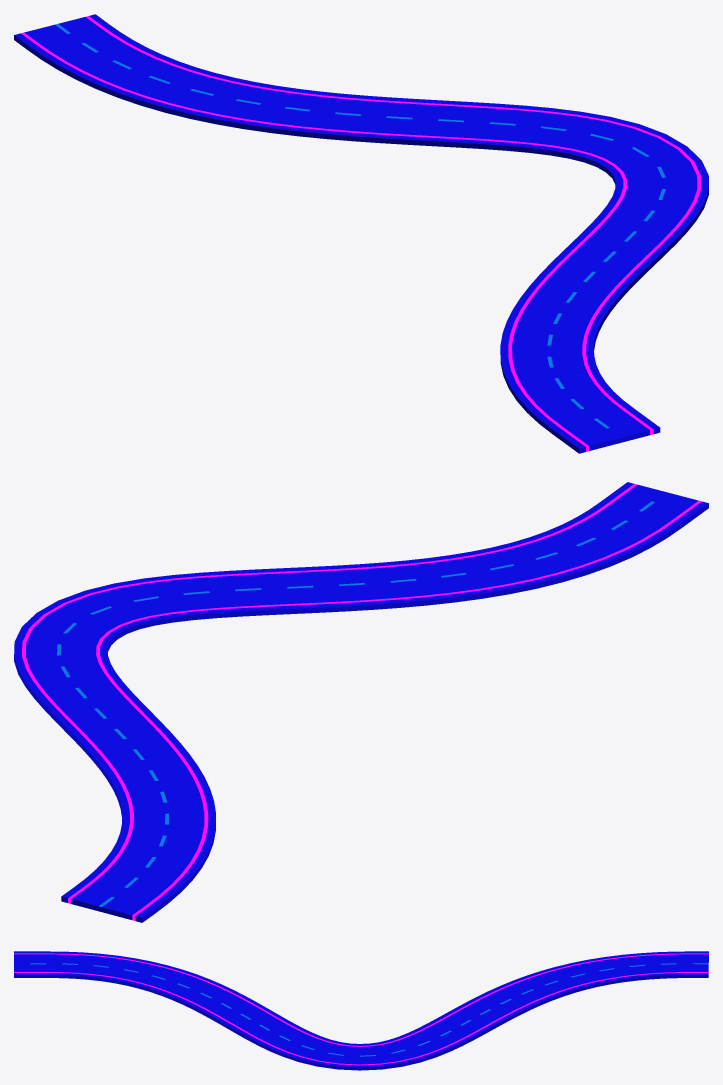
The model's file is rightCurve2.fbx.
3 renders of one model, top to bottom at view 1: azimuth 30°, elevation 25°; view 2: azimuth 150°, elevation 25°; view 3: azimuth 270°, elevation 25°, orthographic. The views are drawn at different scales.
Visible parts, largest first — view 1: Box006; view 2: Box006; view 3: Box006.
Part boxes in pixels (x1,y1,x2,y2): Box006: (14,14,708,453); Box006: (14,482,708,922); Box006: (14,951,708,1070).
Bounding box in the file's own units: 960 × 15.06 × 2412.
